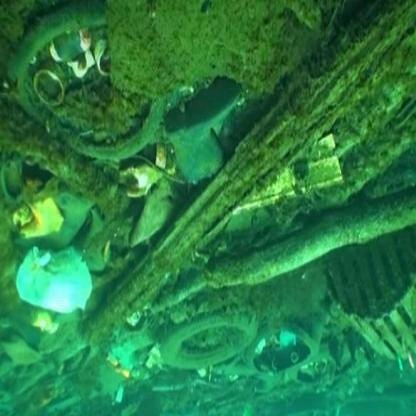misc: (169, 69, 245, 194)
plastic: (16, 242, 100, 320)
tire: (20, 14, 167, 160), (243, 304, 314, 382), (167, 313, 255, 373)
